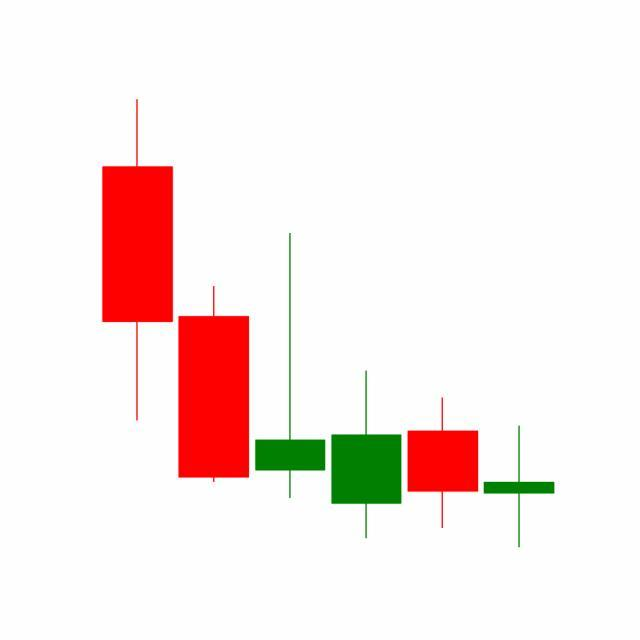Hikkake Pattern: (175, 229, 555, 548)
